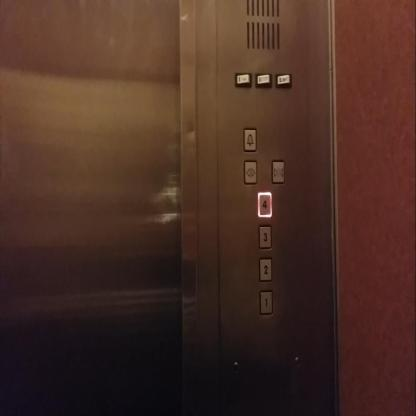1: (259, 288, 273, 316)
2: (258, 256, 273, 282)
3: (258, 223, 272, 250)
4: (257, 190, 272, 217)
alarm: (242, 126, 258, 153)
close: (270, 158, 286, 185)
open: (242, 157, 258, 185)
switch: (253, 69, 272, 88), (274, 69, 293, 88), (234, 69, 252, 88)
